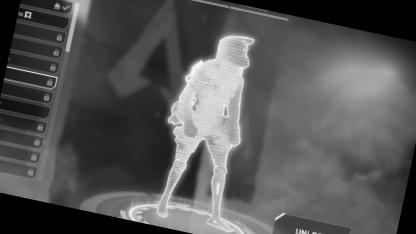Target: (154, 23, 264, 194)
